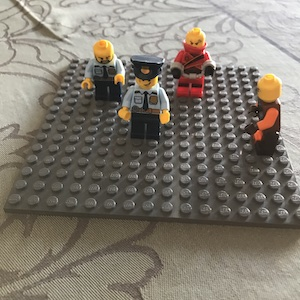Lego: (116, 57, 170, 142), (242, 72, 283, 153), (81, 39, 126, 108), (170, 28, 213, 97)
